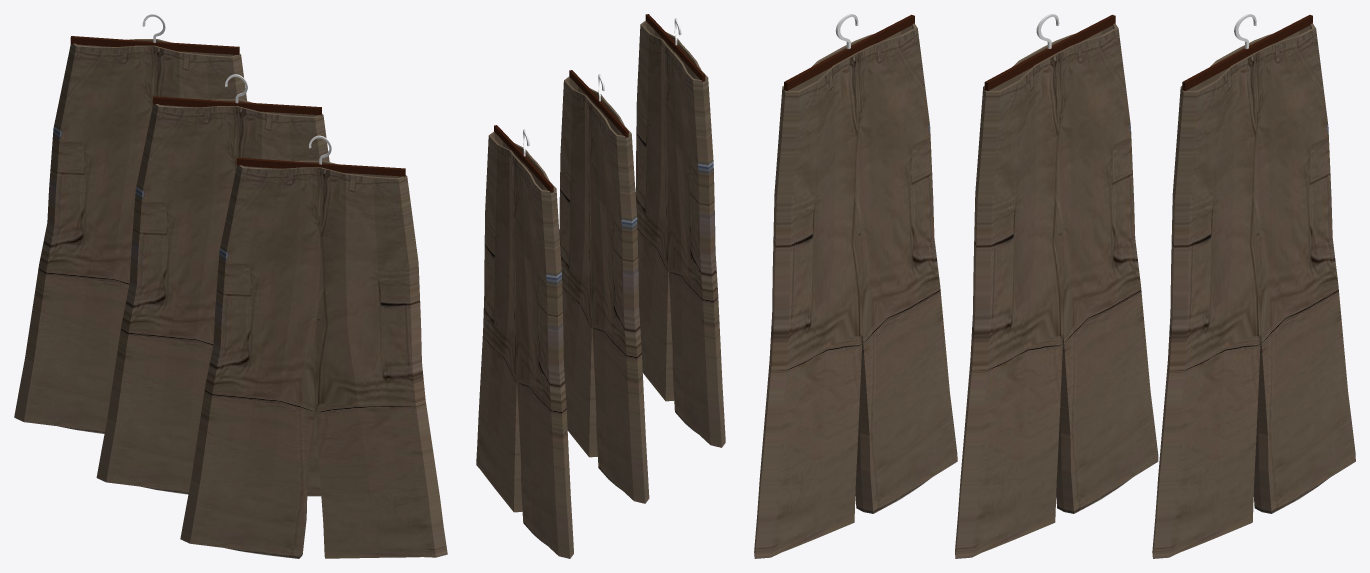
File: cargokhaki.glb
3 views of the same model, side by side, from view 1: azimuth 30°, elevation 25°; view 2: azimuth 150°, elevation 25°; view 3: azimuth 270°, elevation 25° (orthographic). The views are drawn at different scales.
Parts seen in each view (by area): view 1: Plane.038; view 2: Plane.038; view 3: Plane.038.
Part boxes in pixels (x1=…): Plane.038: x1=14, y1=14, x2=447, y2=558; Plane.038: x1=476, y1=14, x2=725, y2=558; Plane.038: x1=754, y1=14, x2=1355, y2=558.
Bounding box in the file's own units: 0.2447 × 0.5377 × 0.5817.
Materials: 3 (3 with a texture image).
